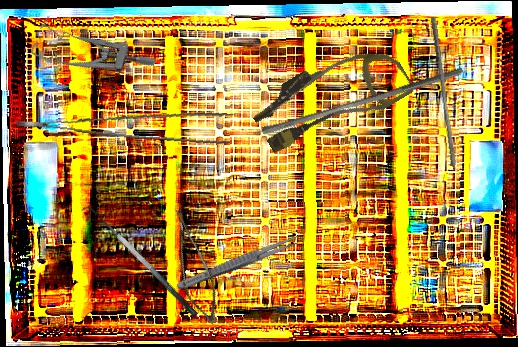Cannula: (245, 26, 417, 170)
Dressing Forceps: (174, 230, 305, 294)
Micro Scissor: (147, 202, 237, 329)
Pusher: (260, 59, 465, 143), (424, 16, 462, 167)
Spatula Surgical: (78, 199, 199, 327)
Speculum: (27, 5, 158, 105)
Tissue Forceps: (15, 84, 236, 156)
